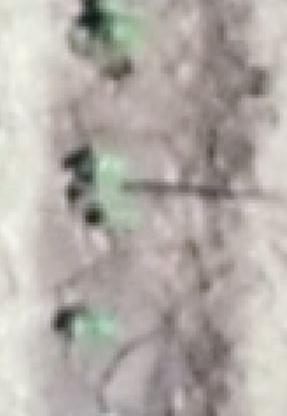cotton: (104, 186, 132, 225), (103, 19, 134, 42), (90, 155, 120, 178), (95, 3, 128, 23), (81, 315, 109, 334)
